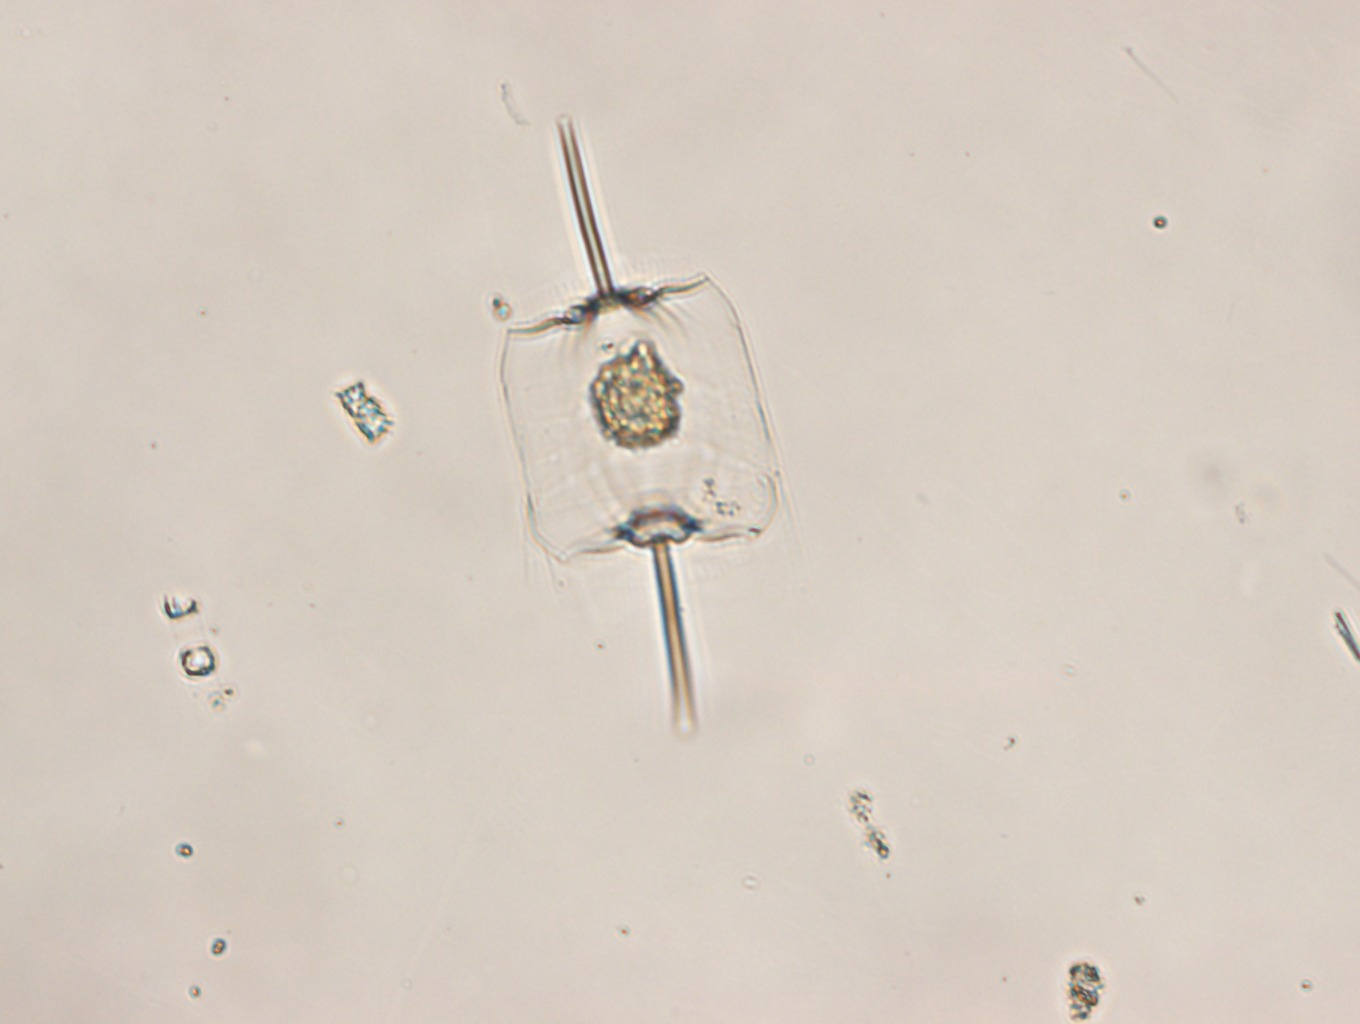ditylum: (499, 114, 792, 735)
